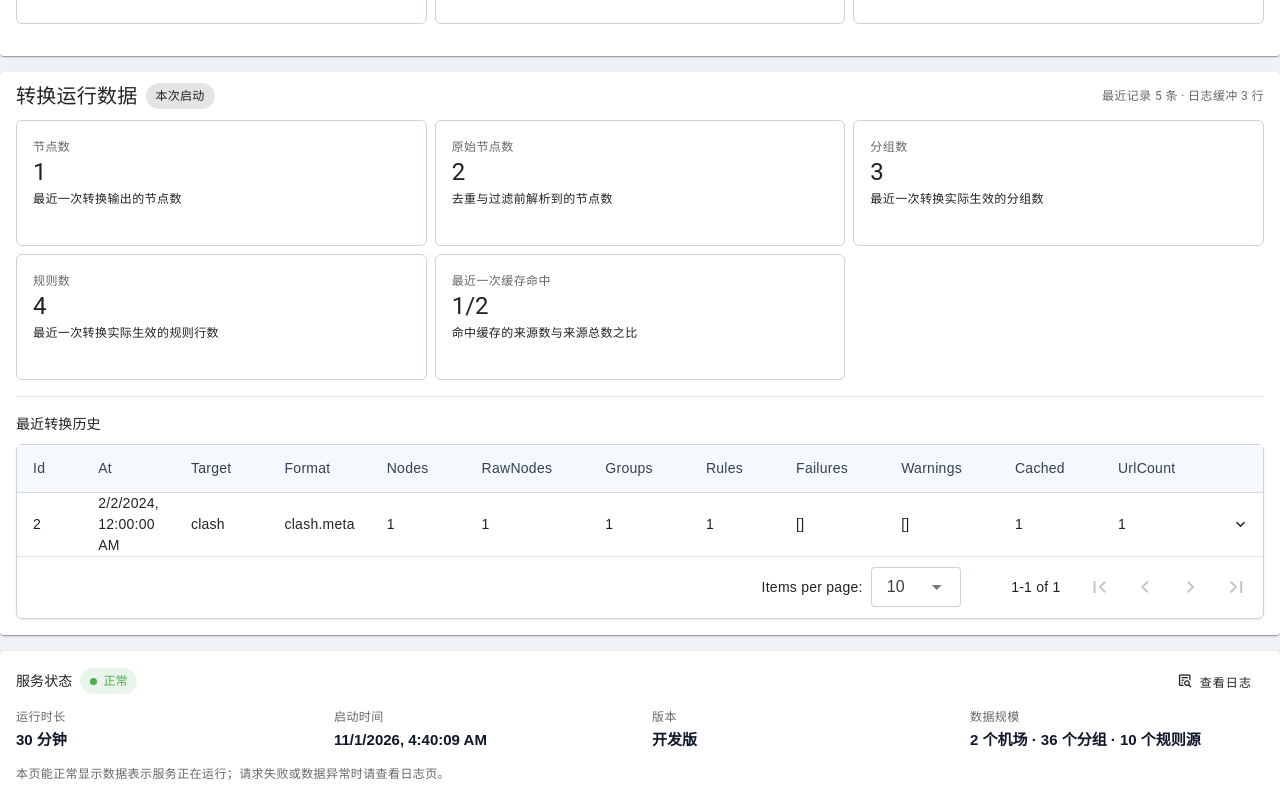
Scenario: OverviewPage › 模板：展开行全部成功时显示「本次全部来源成功」
This screenshot has width=1280, height=785.
(page scrolled)
What coordinates should you click on to do the following:
click the 1st button
I would click on:
 (1240, 524)
Its box is [1220,504,1260,544].
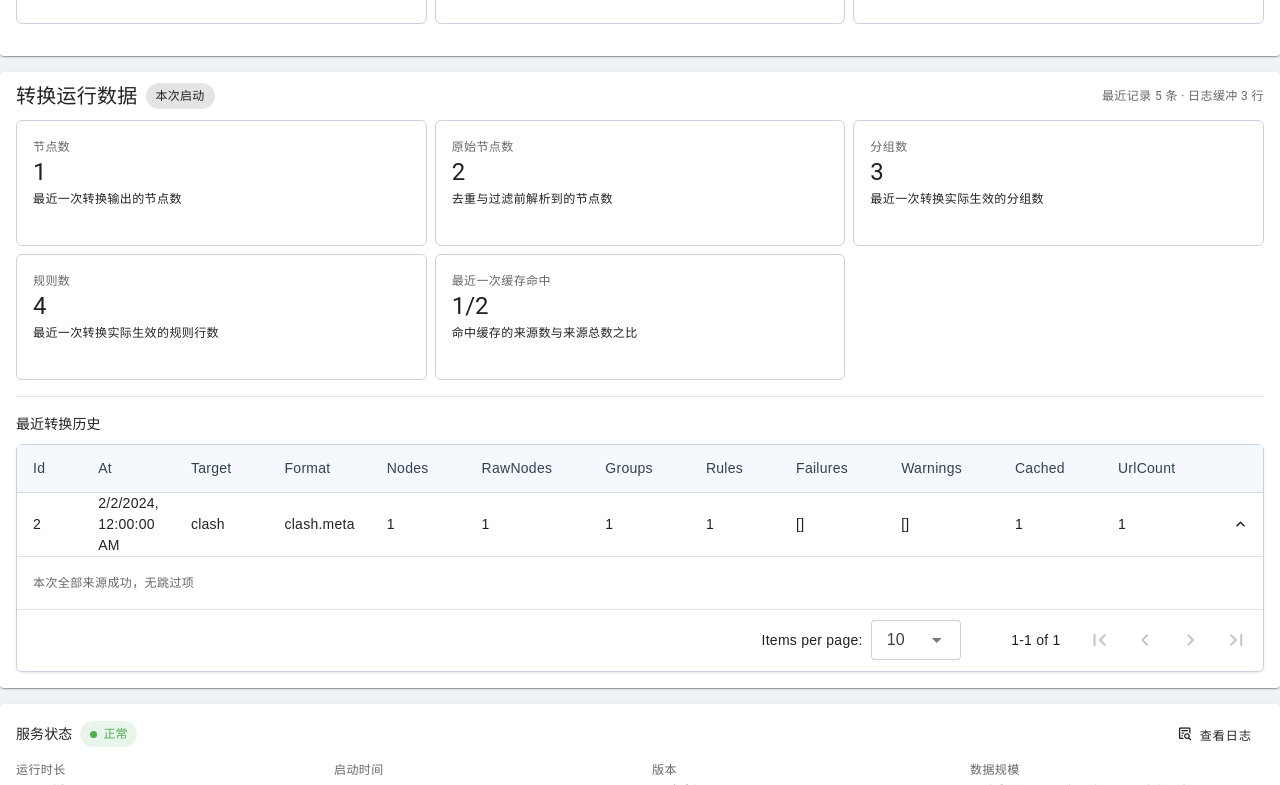
Expected: the text "本次全部来源成功，无跳过项" is shown, [33,576,194,590]
